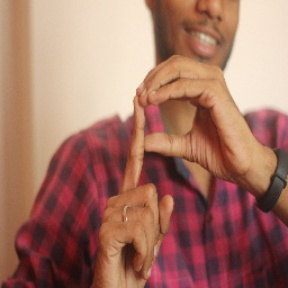P: (85, 55, 246, 252)
